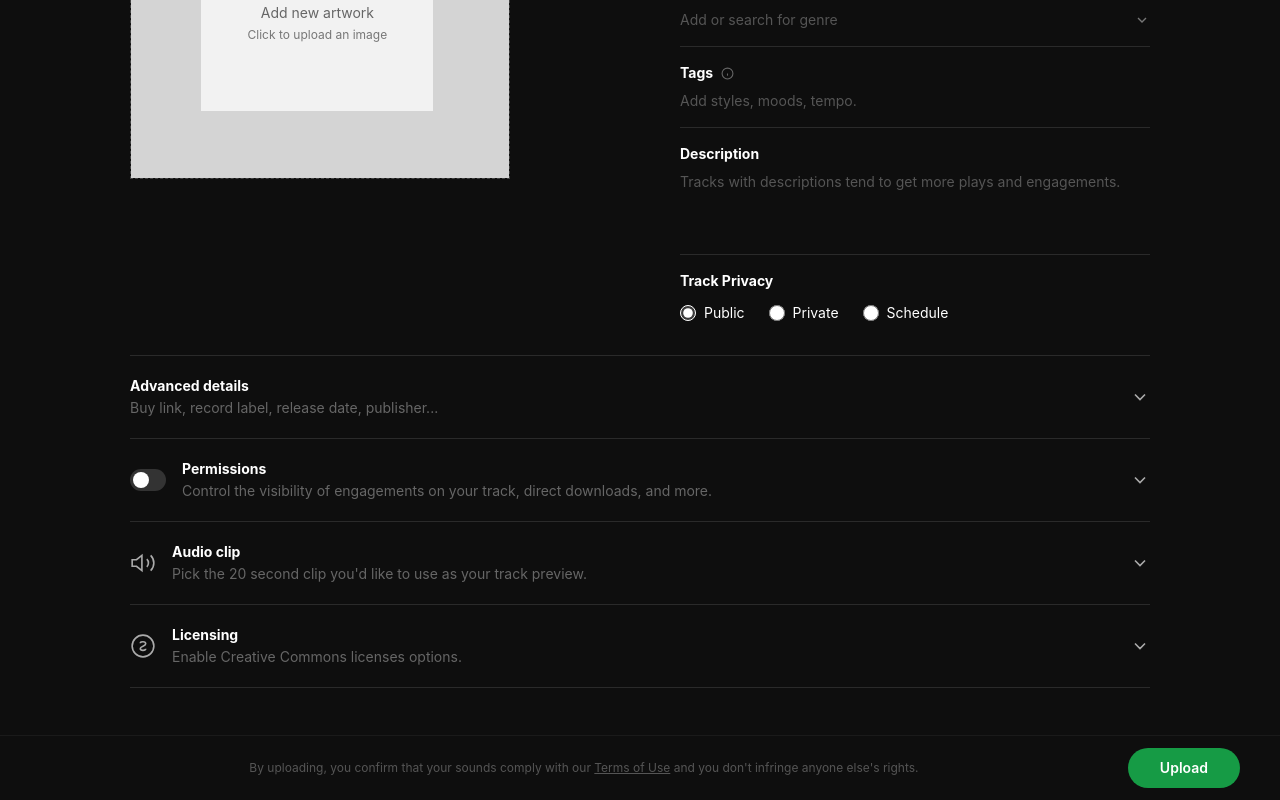
Test: TrackInfoPage › expands Permissions and shows the geoblocking options
(page scrolled)
Click the button with test id "permissions-toggle" at (640, 480), box [130,439,1150,521]
(page scrolled)
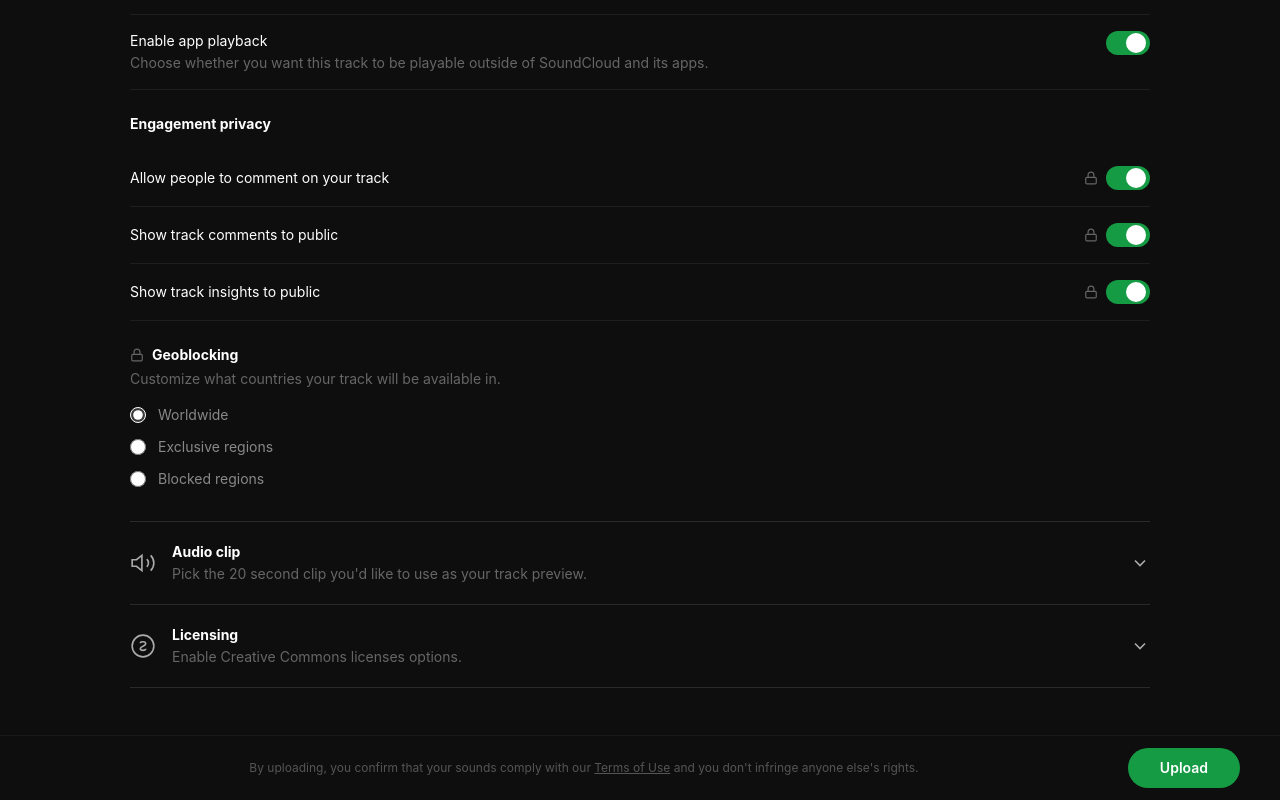
Now the radio button labelled "Worldwide" is shown, box [130,407,146,423]
Now the radio button labelled "Exclusive regions" is shown, box [130,439,146,455]
Now the radio button labelled "Blocked regions" is shown, box [130,471,146,487]
